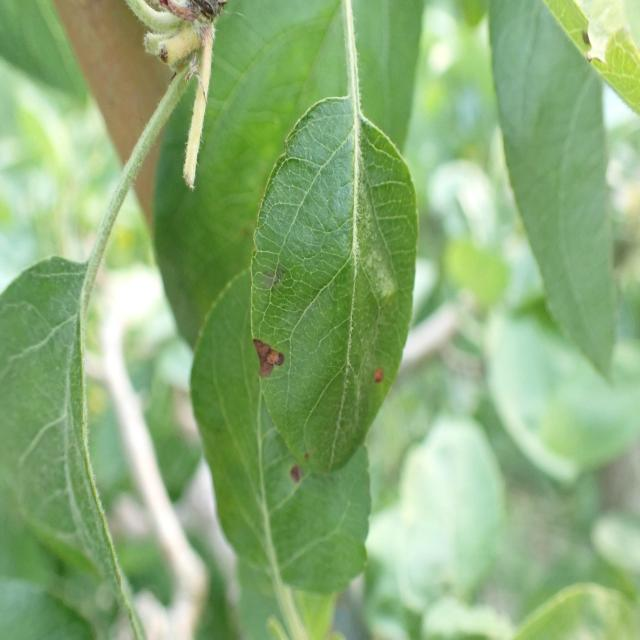Black Rot: (252, 313, 292, 404), (278, 457, 313, 494), (361, 359, 394, 396)
